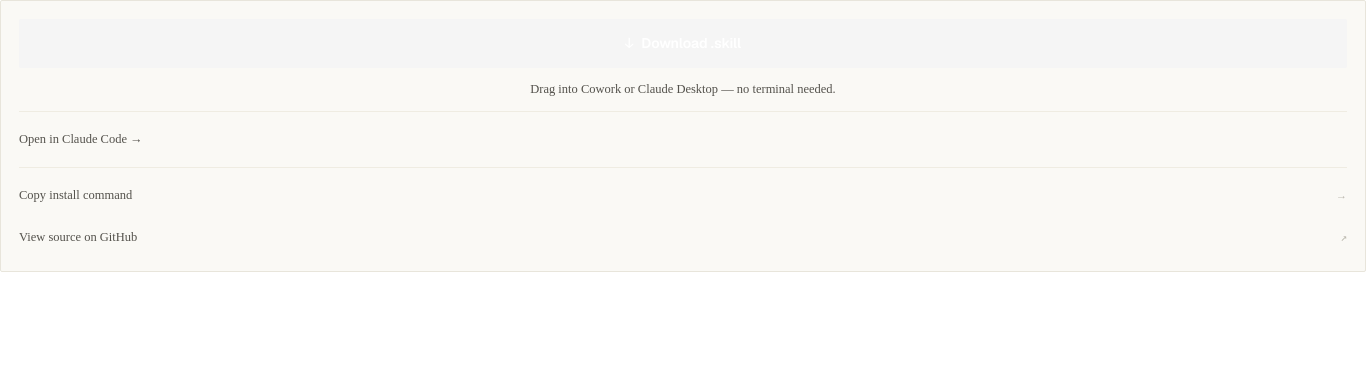
Test: FeedbackPrompt › already-given feedback (localStorage marker) renders thanks instead of the question
Click the button "Copy install command →". click: (76,194)
box: [19,180,1347,210]
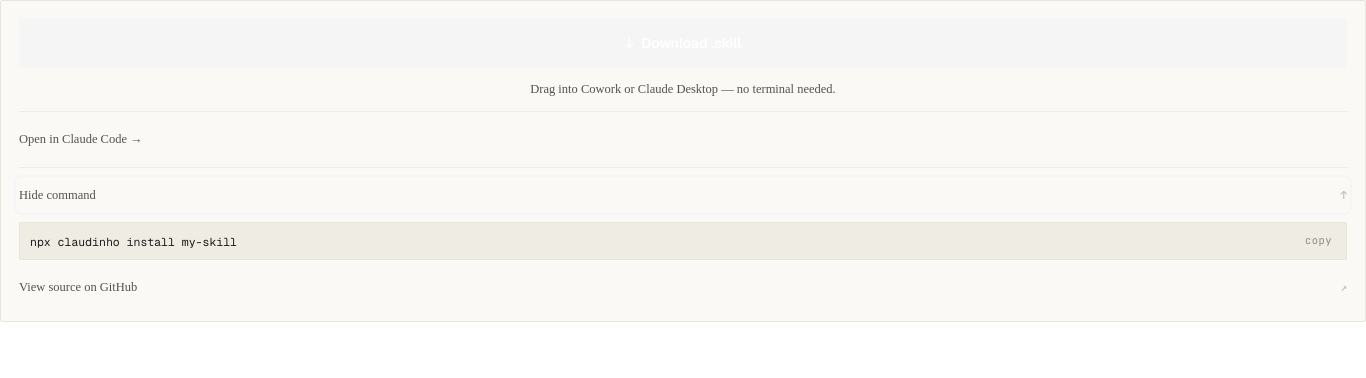
Click the button "copy". click: (1319,241)
box: [1301,231,1336,251]
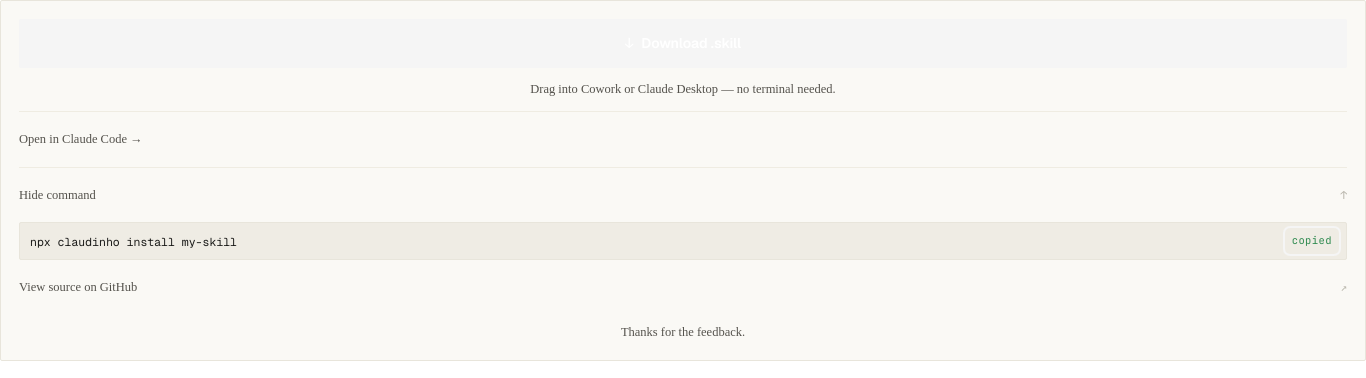
Expected: the text "Thanks for the feedback." is shown, [621,325,745,339]
